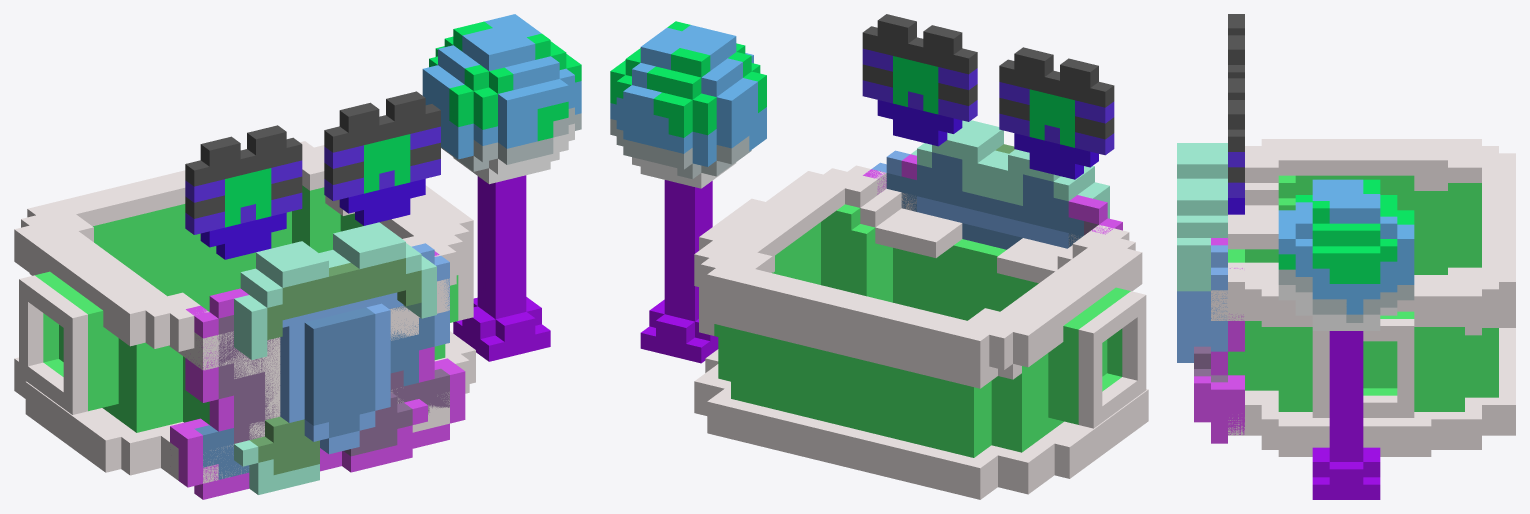
The model's file is 81- master creator.fbx.
3 renders of one model, left to right at view 1: azimuth 30°, elevation 25°; view 2: azimuth 150°, elevation 25°; view 3: azimuth 270°, elevation 25°, orthographic. The views are drawn at different scales.
Visible parts, largest first — view 1: 366, 368, 368.1, 369, 367.1, Saleev_R, 367, 369.1, Saleev_L; view 2: 366, 369, 367.1, 368, Saleev_R, 367, 369.1, 368.1, Saleev_L; view 3: 366, 369, 368, 369.1, Saleev_L, 367, 367.1, 368.1.
Part boxes in pixels (x1=…): 366: x1=14, y1=141, x2=475, y2=483; 368: x1=170, y1=222, x2=465, y2=499; 368.1: x1=194, y1=258, x2=449, y2=479; 369: x1=422, y1=14, x2=581, y2=361; 367.1: x1=185, y1=126, x2=440, y2=259; Saleev_R: x1=19, y1=271, x2=118, y2=414; 367: x1=185, y1=91, x2=440, y2=218; 369.1: x1=429, y1=21, x2=581, y2=171; Saleev_L: x1=422, y1=185, x2=473, y2=322; 366: x1=694, y1=165, x2=1148, y2=499; 369: x1=610, y1=25, x2=766, y2=363; 367.1: x1=862, y1=48, x2=1114, y2=179; 368: x1=863, y1=120, x2=1122, y2=248; Saleev_R: x1=1048, y1=287, x2=1146, y2=428; 367: x1=862, y1=14, x2=1114, y2=139; 369.1: x1=610, y1=21, x2=766, y2=179; 368.1: x1=886, y1=144, x2=1098, y2=249; Saleev_L: x1=699, y1=198, x2=765, y2=336; 366: x1=1211, y1=139, x2=1515, y2=456; 369: x1=1278, y1=179, x2=1414, y2=499; 368: x1=1177, y1=143, x2=1244, y2=443; 369.1: x1=1278, y1=179, x2=1414, y2=322; Saleev_L: x1=1312, y1=311, x2=1414, y2=417; 367: x1=1228, y1=14, x2=1244, y2=182; 367.1: x1=1228, y1=152, x2=1244, y2=214; 368.1: x1=1194, y1=346, x2=1227, y2=382.
Size of the model in its own units: 330 by 210 by 200.
9 materials, 9 textured.
